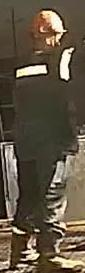helmet: (27, 7, 68, 36)
vest: (11, 46, 82, 161)
